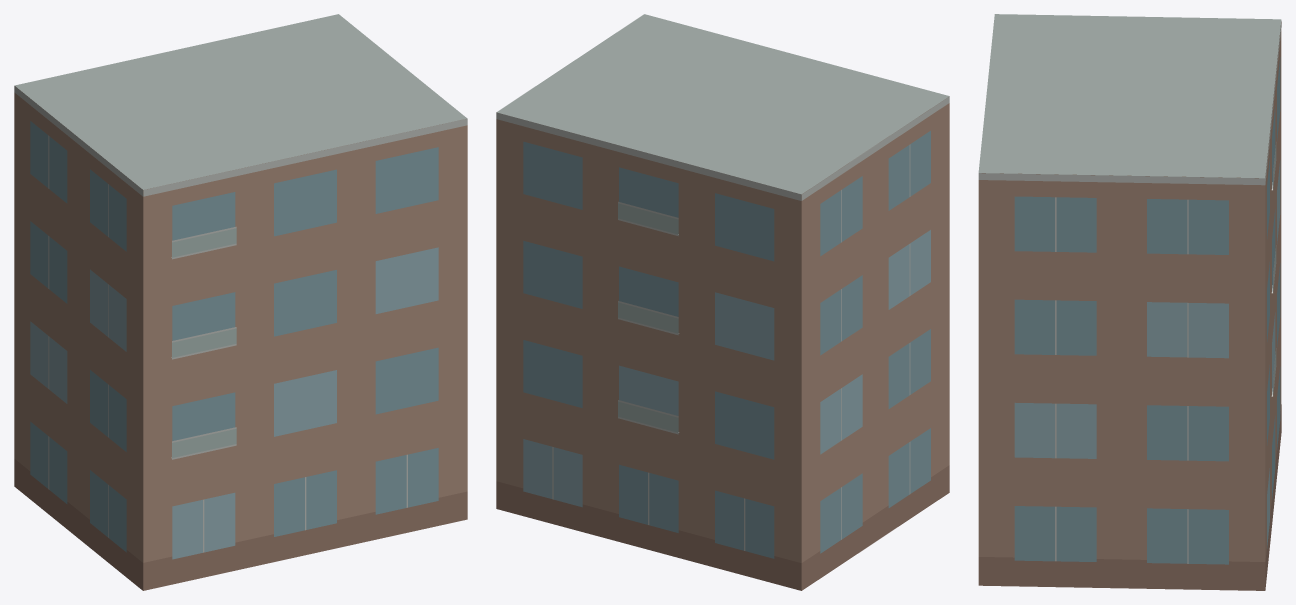
Rendered from survey-upis-32904582.glb.
3 renders of one model, left to right at view 1: azimuth 30°, elevation 25°; view 2: azimuth 150°, elevation 25°; view 3: azimuth 270°, elevation 25°, orthographic. The views are drawn at different scales.
Parts seen in each view (by area): view 1: survey-upis-32904582.tmp; view 2: survey-upis-32904582.tmp; view 3: survey-upis-32904582.tmp.
Boxes of the visible parts, left/top/right/bottom form: survey-upis-32904582.tmp: left=14, top=14, right=467, bottom=590; survey-upis-32904582.tmp: left=496, top=14, right=949, bottom=590; survey-upis-32904582.tmp: left=978, top=14, right=1281, bottom=590.
Bounding box in the file's own units: 12.3 × 14.4 × 9.59.
